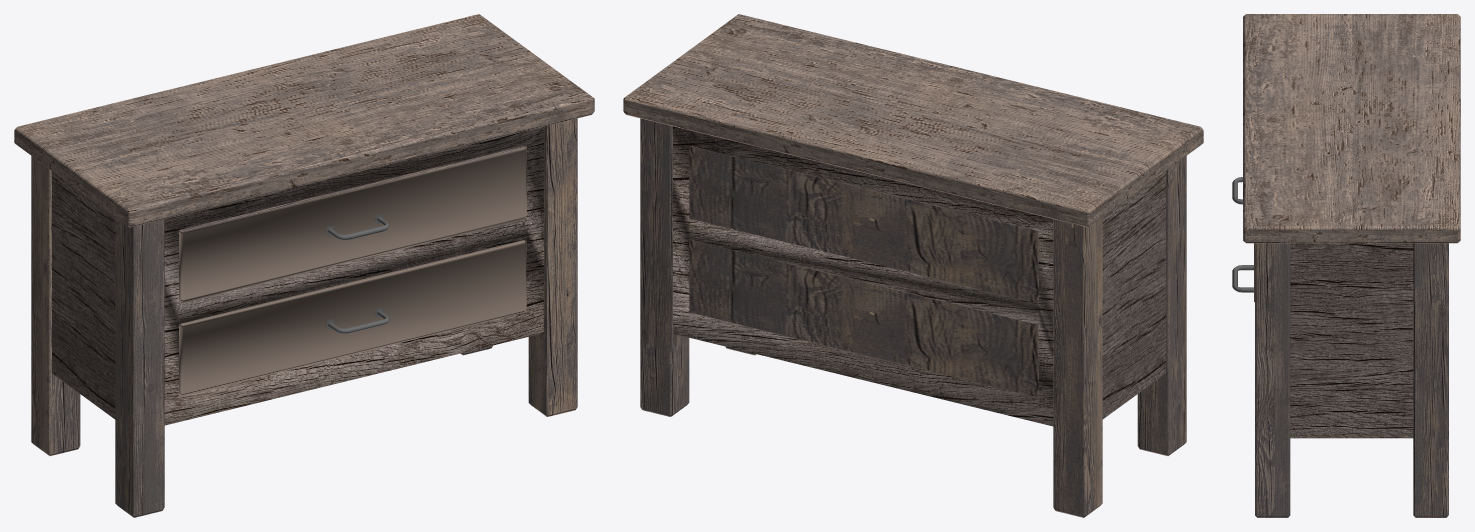
File: drawer.fbx
3 renders of one model, left to right at view 1: azimuth 30°, elevation 25°; view 2: azimuth 150°, elevation 25°; view 3: azimuth 270°, elevation 25°, orthographic. The views are drawn at different scales.
Parts seen in each view (by area): view 1: WoodDrawer01, Cube, Cube.002; view 2: WoodDrawer01, Cube.002, Cube; view 3: WoodDrawer01, Cube.004.
Boxes of the visible parts, x1=… form: WoodDrawer01: x1=14, y1=14, x2=594, y2=517; Cube: x1=179, y1=240, x2=526, y2=395; Cube.002: x1=179, y1=148, x2=526, y2=301; WoodDrawer01: x1=623, y1=14, x2=1203, y2=517; Cube.002: x1=689, y1=146, x2=1038, y2=303; Cube: x1=689, y1=239, x2=1038, y2=397; WoodDrawer01: x1=1243, y1=14, x2=1460, y2=517; Cube.004: x1=1232, y1=265, x2=1253, y2=292.
Bounding box in the file's own units: 103 × 66.59 × 46.44.
